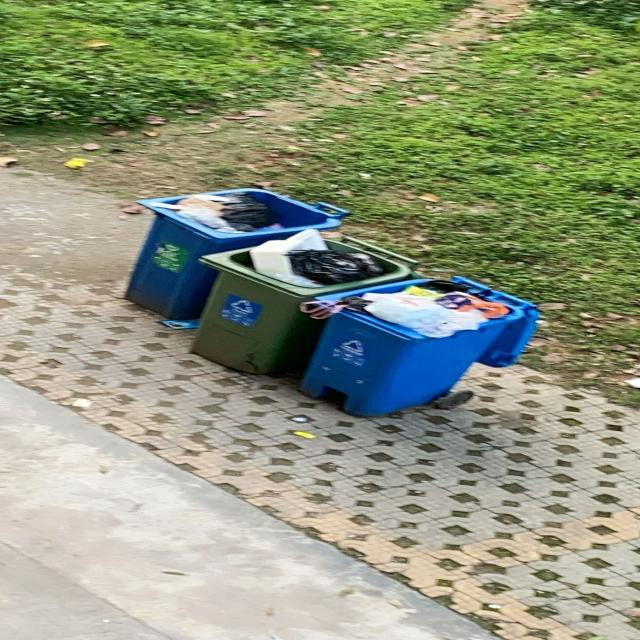overflow: (296, 273, 535, 418), (184, 229, 419, 374), (122, 188, 349, 320)
